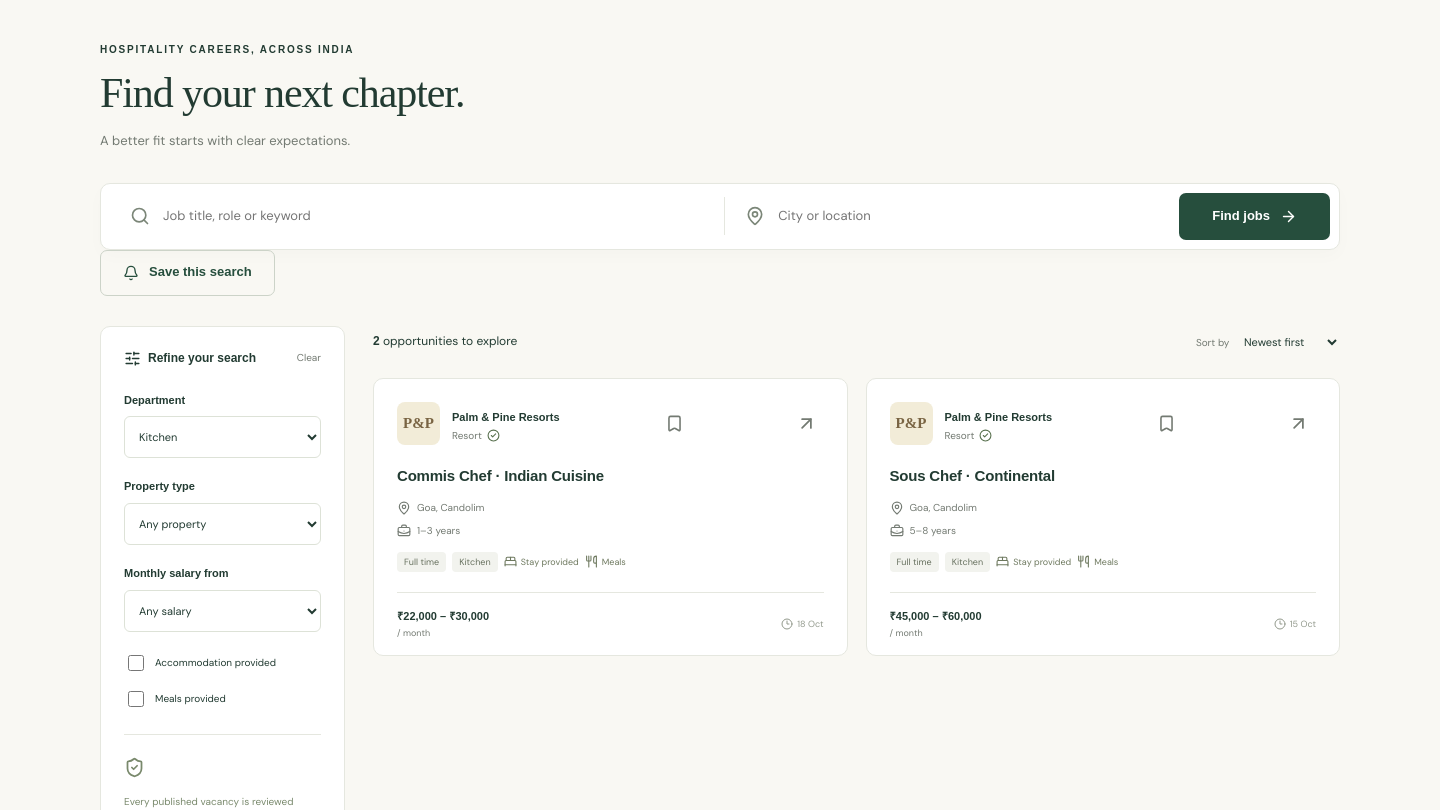
Test: hospitality hiring interactions › saves the current search with alerts on
The image size is (1440, 810).
Click the button "Save this search" at (187, 273), box [100,250,275,296]
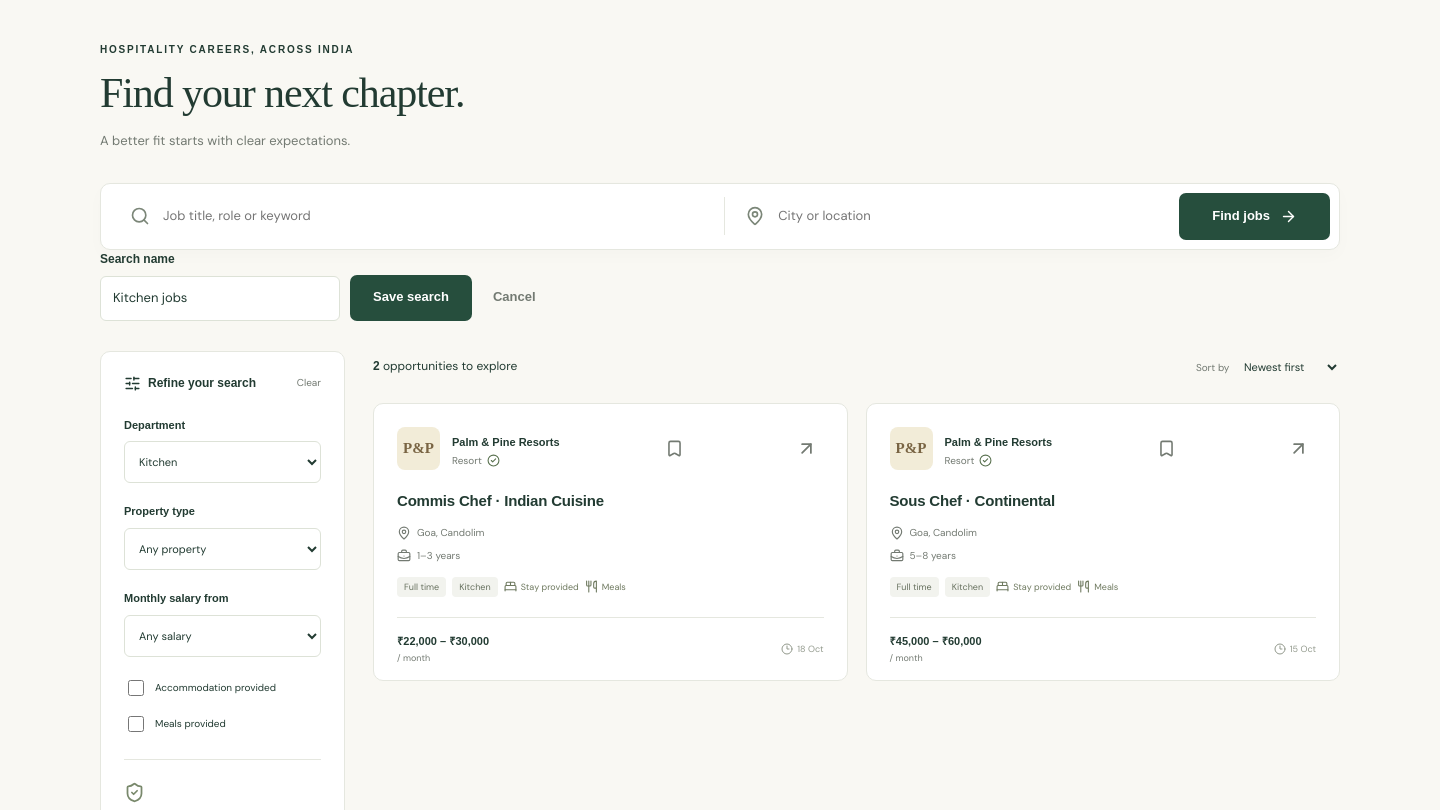
Replace the text in the field labelled "Search name" with "Kitchen roles" at (220, 298), box [100,276,340,321]
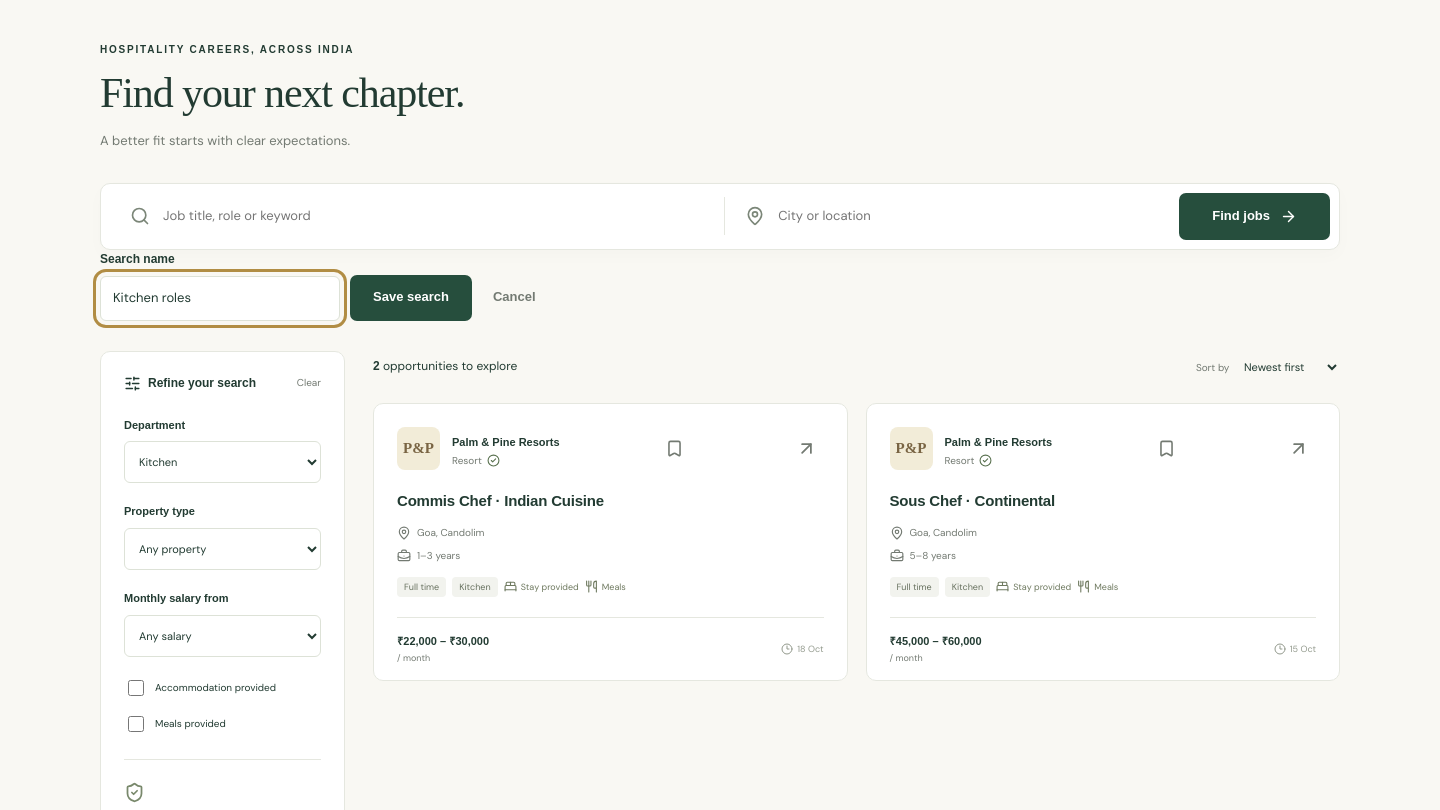
Click the button "Save search" at (411, 298), box [350,275,472,321]
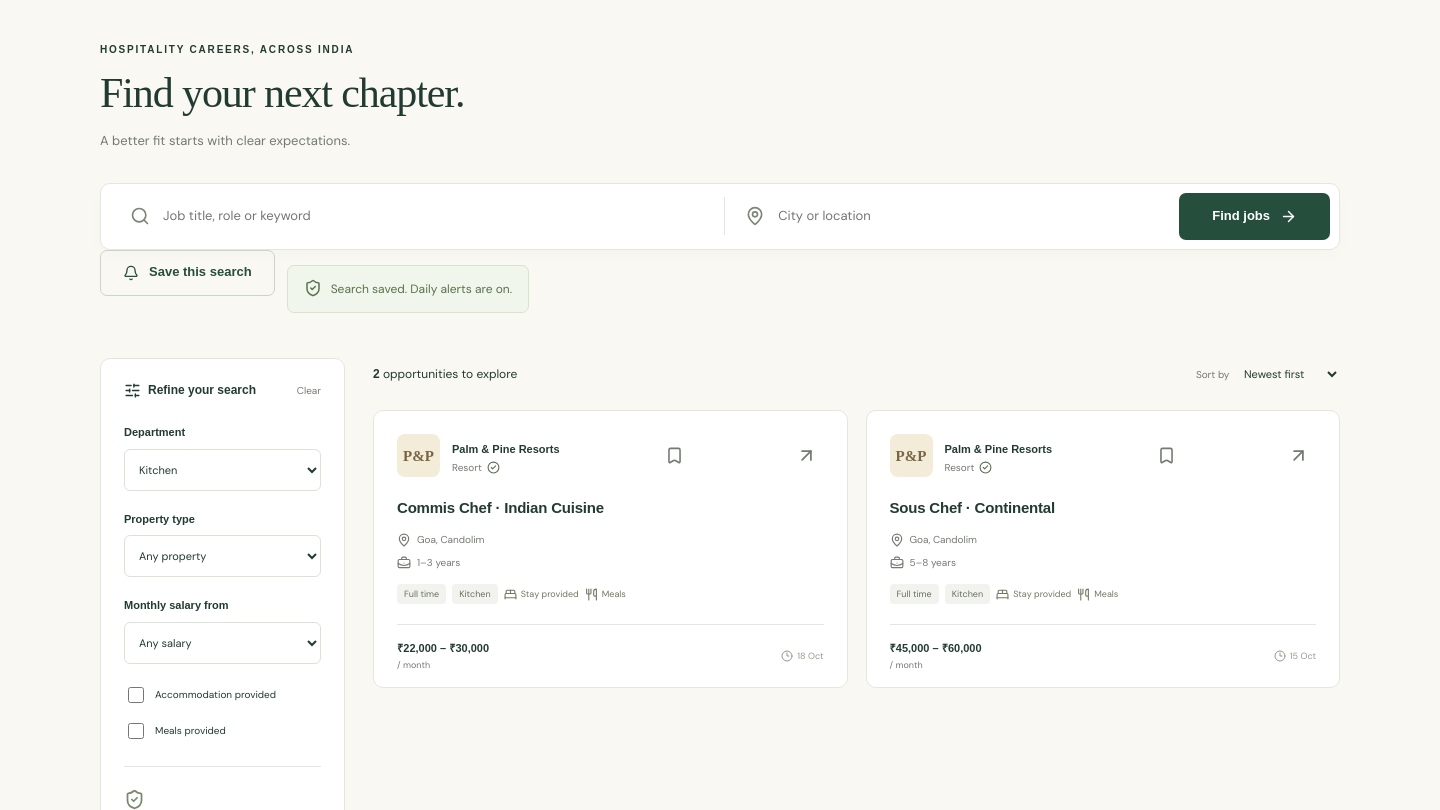
Result: the text "Search saved. Daily alerts are on." is shown at [331,279,512,299]
